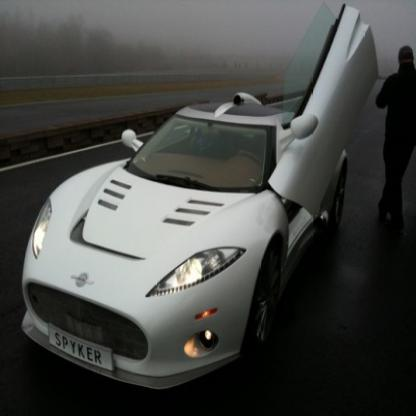Vehicle: (23, 1, 381, 394)
